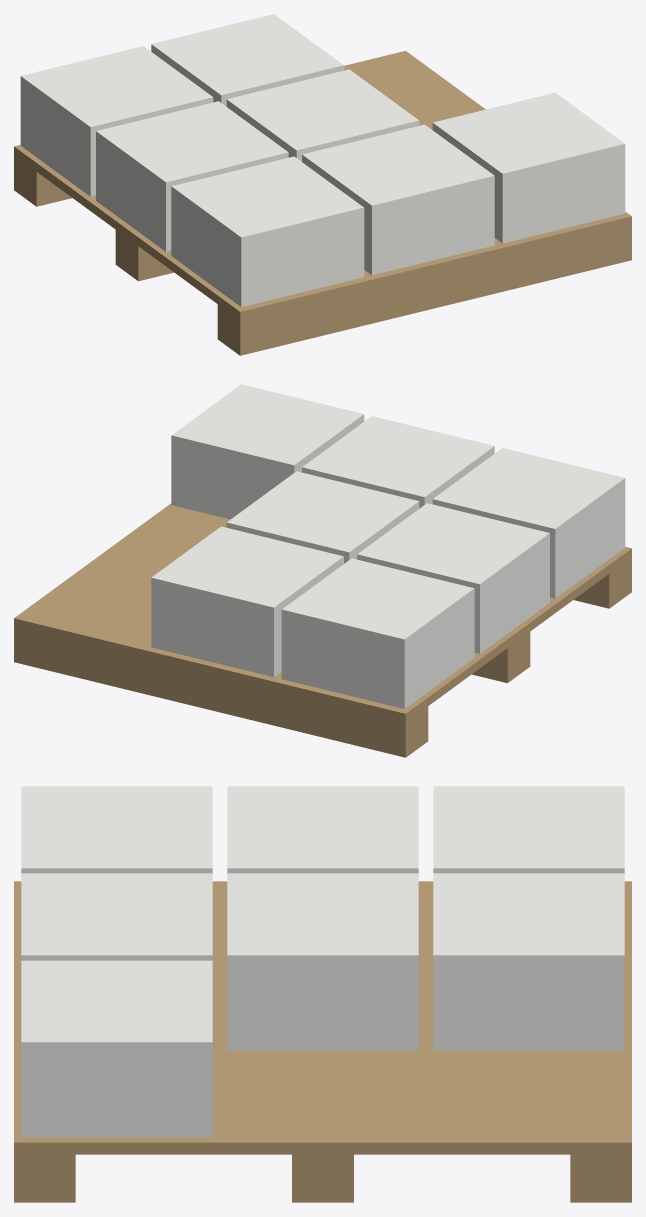
Rendered from pallet_mp_07.glb.
3 views of the same model, one above another, from view 1: azimuth 30°, elevation 25°; view 2: azimuth 150°, elevation 25°; view 3: azimuth 270°, elevation 25° (orthographic). The views are drawn at different scales.
Parts seen in each view (by area): view 1: PalletMP; view 2: PalletMP; view 3: PalletMP.
Part boxes in pixels (x1,y1,x2,y2): PalletMP: (14,14,631,355); PalletMP: (14,384,631,757); PalletMP: (14,786,631,1202).
Bounding box in the file's own units: 1 × 0.2814 × 1.
